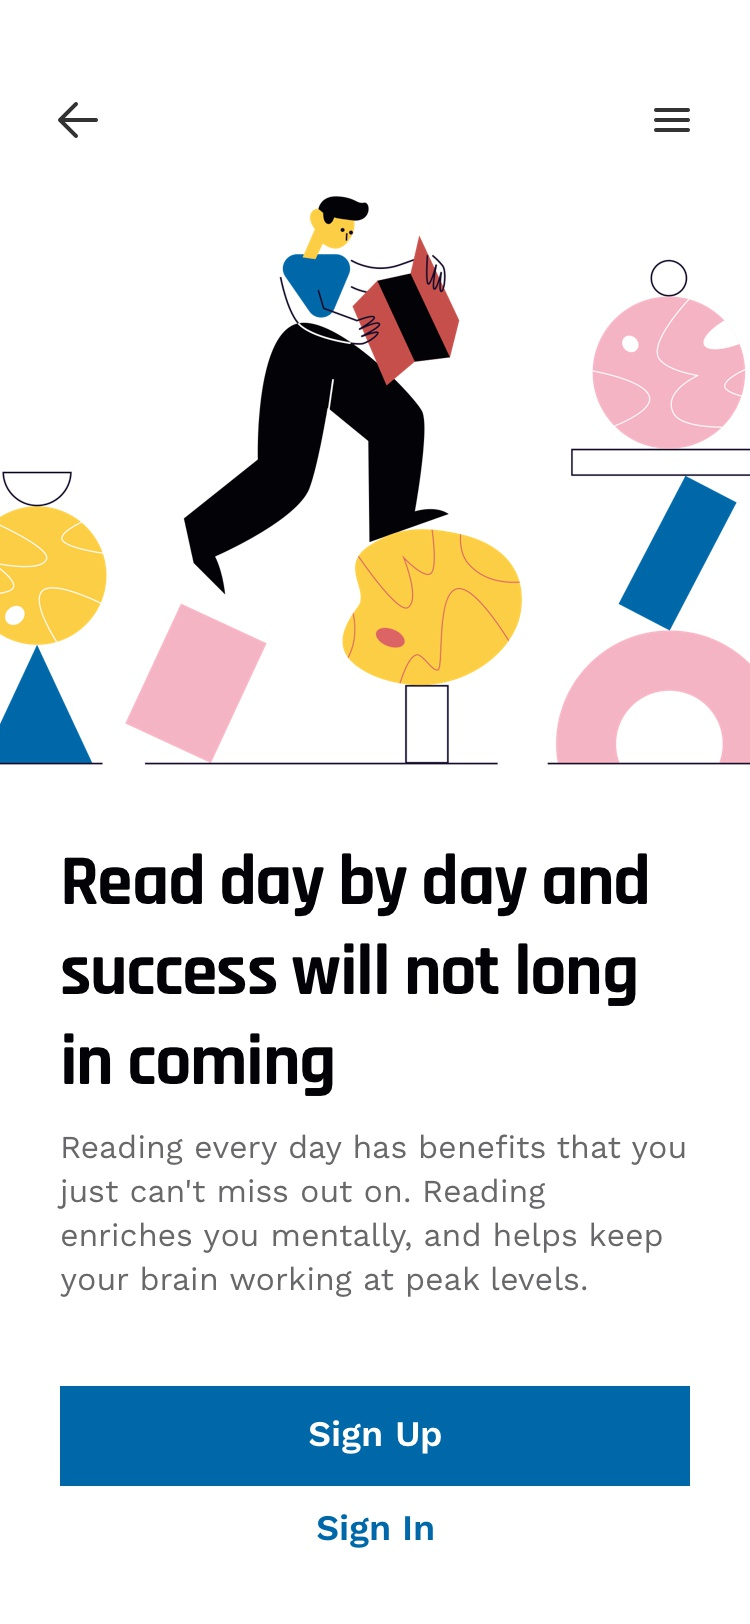Icon: (58, 102, 100, 140), (653, 108, 691, 134)
Image: (1, 195, 750, 765)
Text: (64, 852, 648, 1097), (57, 1133, 686, 1298), (317, 1514, 434, 1549)
TextButton: (61, 1386, 691, 1487)
